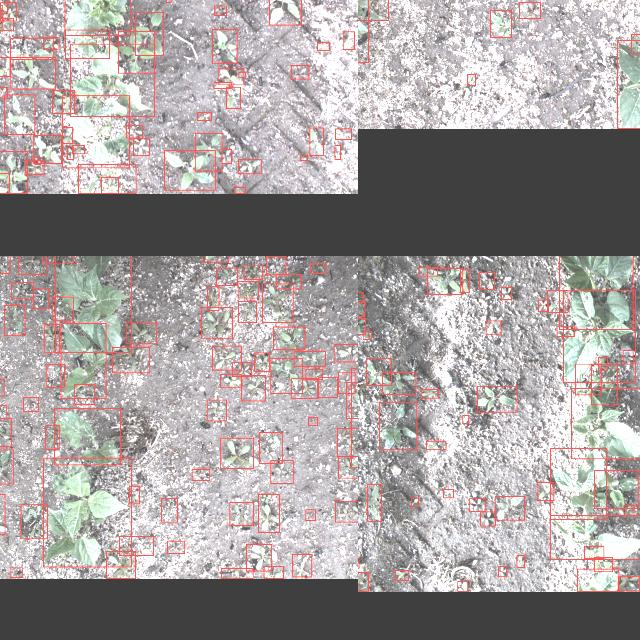crop: (43, 458, 131, 568), (55, 256, 131, 351), (562, 290, 634, 382), (70, 44, 154, 116), (558, 256, 632, 329), (571, 387, 640, 458), (62, 96, 128, 168), (550, 448, 606, 520), (549, 516, 640, 560), (54, 408, 120, 466), (61, 323, 106, 399), (64, 0, 130, 35), (616, 41, 640, 129), (65, 30, 109, 59), (576, 568, 618, 592)
weed: (163, 151, 214, 191), (378, 402, 416, 450), (77, 164, 135, 193), (593, 470, 637, 508), (118, 31, 154, 73), (10, 57, 54, 89), (135, 12, 163, 56), (4, 95, 34, 135), (270, 358, 302, 394), (262, 284, 292, 322), (0, 152, 26, 194), (194, 133, 222, 171), (476, 386, 516, 412), (591, 364, 617, 404), (200, 307, 232, 338), (220, 438, 252, 468), (426, 268, 462, 294), (111, 348, 149, 372), (20, 505, 46, 539), (10, 39, 52, 60), (212, 29, 236, 63), (31, 136, 60, 164), (269, 0, 301, 25), (258, 494, 278, 532), (382, 372, 416, 394), (258, 432, 282, 463), (106, 552, 134, 578), (118, 536, 154, 556), (494, 496, 524, 520), (576, 364, 600, 394), (274, 326, 304, 349), (246, 544, 270, 572), (212, 346, 240, 370), (366, 358, 390, 386), (336, 427, 358, 456), (125, 322, 155, 343), (489, 10, 511, 38), (4, 305, 24, 335), (358, 0, 387, 20), (229, 502, 253, 526), (241, 376, 265, 400), (366, 484, 380, 522), (52, 90, 74, 114), (291, 378, 317, 398), (270, 461, 292, 484), (334, 501, 358, 522), (18, 256, 46, 274), (546, 290, 568, 312), (345, 381, 358, 418), (291, 554, 311, 578), (294, 350, 324, 366), (52, 296, 72, 320), (43, 323, 59, 352), (333, 344, 358, 362), (338, 456, 358, 478), (46, 364, 64, 388), (218, 68, 244, 84), (0, 450, 12, 484), (206, 400, 226, 420), (74, 384, 94, 404), (238, 300, 256, 322), (309, 128, 323, 156), (161, 498, 177, 522), (318, 377, 337, 397), (216, 267, 237, 285), (265, 256, 285, 274), (518, 2, 540, 18), (11, 282, 33, 298), (276, 274, 300, 288), (338, 372, 354, 393), (45, 425, 59, 449), (237, 281, 257, 297), (32, 288, 48, 308), (238, 160, 260, 174), (226, 87, 240, 109), (0, 418, 11, 446), (537, 482, 553, 501), (222, 569, 252, 579), (133, 138, 149, 156), (100, 178, 118, 194), (24, 161, 44, 175), (220, 374, 240, 388), (254, 352, 268, 372), (618, 577, 638, 591), (583, 546, 603, 560), (0, 3, 15, 21), (22, 396, 38, 412), (478, 272, 494, 288), (290, 65, 308, 79), (232, 362, 250, 376), (244, 265, 262, 279), (594, 558, 612, 572), (263, 567, 283, 579), (208, 286, 218, 310), (468, 498, 484, 512), (41, 256, 72, 263), (166, 541, 184, 553), (459, 268, 468, 292), (125, 125, 141, 138), (425, 440, 445, 450), (342, 31, 353, 49), (480, 512, 494, 526), (42, 37, 58, 49), (486, 321, 500, 334), (631, 34, 640, 54), (129, 486, 139, 504), (191, 470, 209, 480), (556, 326, 574, 336), (420, 388, 438, 398), (418, 266, 436, 276), (306, 368, 322, 379), (0, 57, 9, 76), (358, 572, 367, 591), (0, 17, 13, 30), (335, 129, 351, 139), (221, 148, 231, 164), (62, 128, 72, 144), (0, 174, 8, 194), (310, 263, 326, 273), (622, 350, 632, 364), (394, 571, 408, 581), (501, 286, 511, 300), (597, 356, 607, 369), (202, 256, 227, 261), (214, 5, 226, 15), (466, 74, 476, 86), (10, 568, 22, 578), (197, 113, 211, 121), (358, 318, 365, 334), (213, 83, 230, 89), (305, 510, 315, 520), (307, 416, 317, 426), (624, 506, 634, 516), (538, 300, 548, 310), (457, 581, 467, 591), (317, 42, 329, 50), (72, 146, 84, 154), (516, 556, 524, 568), (358, 300, 364, 316), (498, 567, 507, 577), (443, 489, 453, 498), (334, 146, 340, 160), (66, 146, 72, 160), (0, 405, 6, 419), (410, 498, 418, 507), (362, 331, 371, 339), (0, 88, 7, 98), (233, 188, 244, 194), (358, 292, 363, 302), (238, 72, 246, 78), (462, 415, 468, 423), (34, 158, 40, 165), (300, 156, 306, 160), (165, 0, 170, 2)
